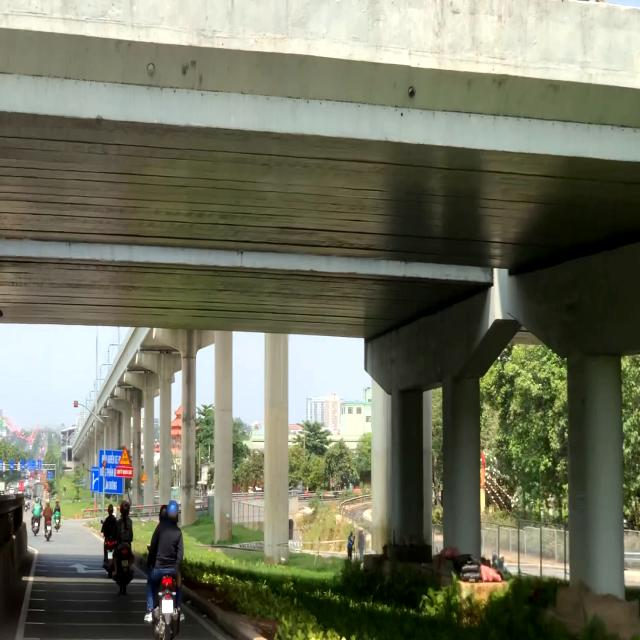W.245a: (119, 446, 131, 466)
